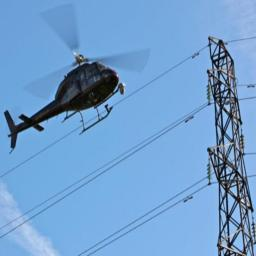helicopter: (4, 7, 148, 150)
